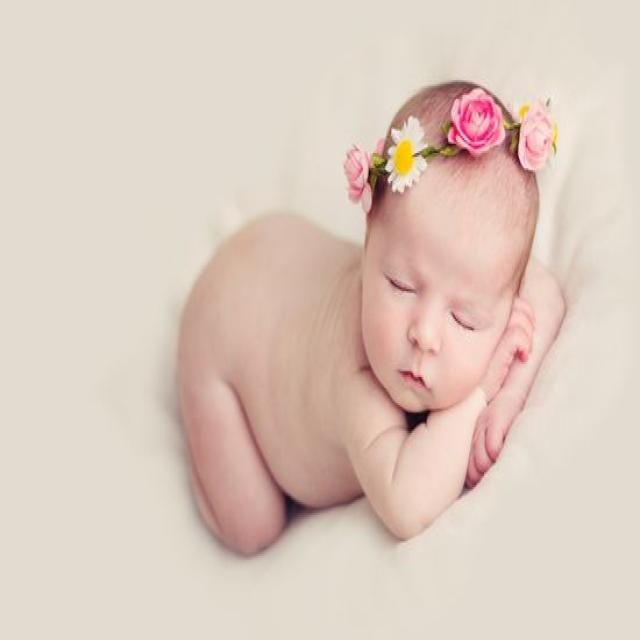non-dog: (173, 79, 567, 557)
